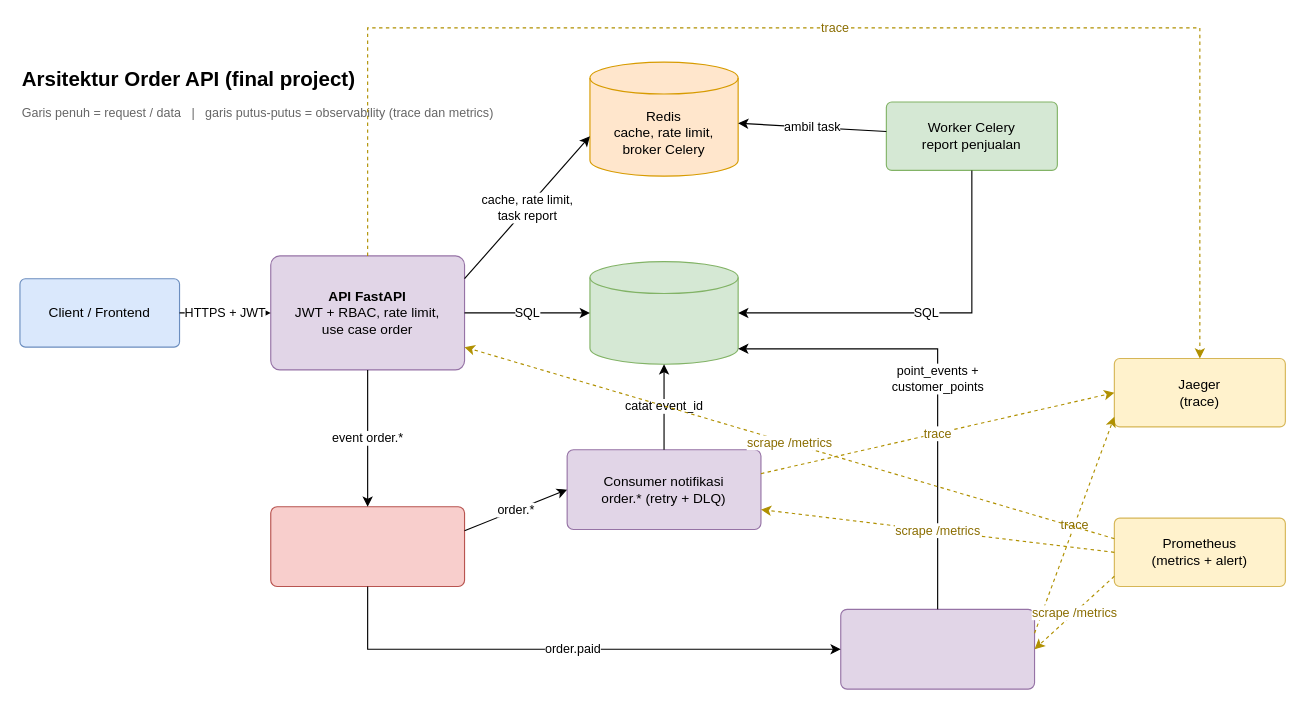
The diagram is 1305 pixels wide and 709 high, and some of its shapes have lost their labels. The box of each missing label's shape, as (x1, y1, x2, y2) in pixels:
Consumer poin loyalty order.paid: (840, 608, 1035, 689)
PostgreSQL: (589, 260, 738, 364)
RabbitMQ exchange topic orders: (270, 506, 465, 587)
